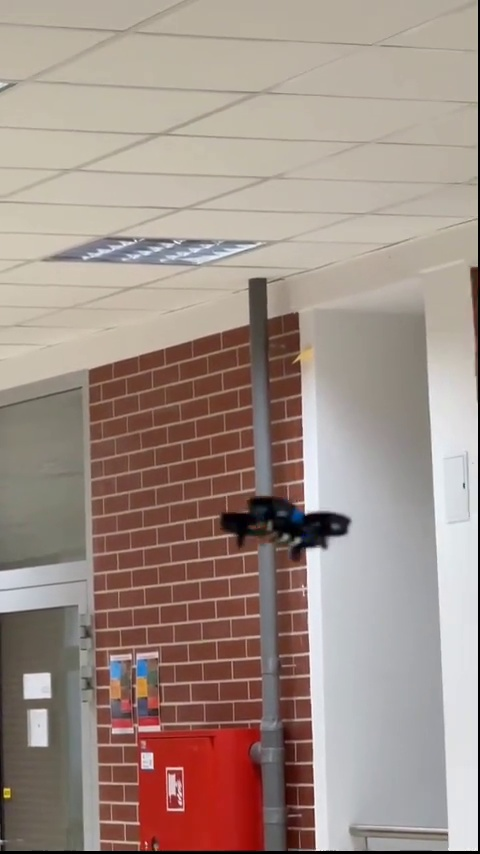drone: (223, 493, 352, 560)
